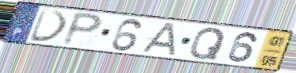6: (110, 17, 143, 52), (227, 31, 259, 64)
A: (138, 22, 178, 57)
D: (27, 7, 70, 44)
P: (60, 10, 105, 48)
Q: (188, 27, 228, 61)
